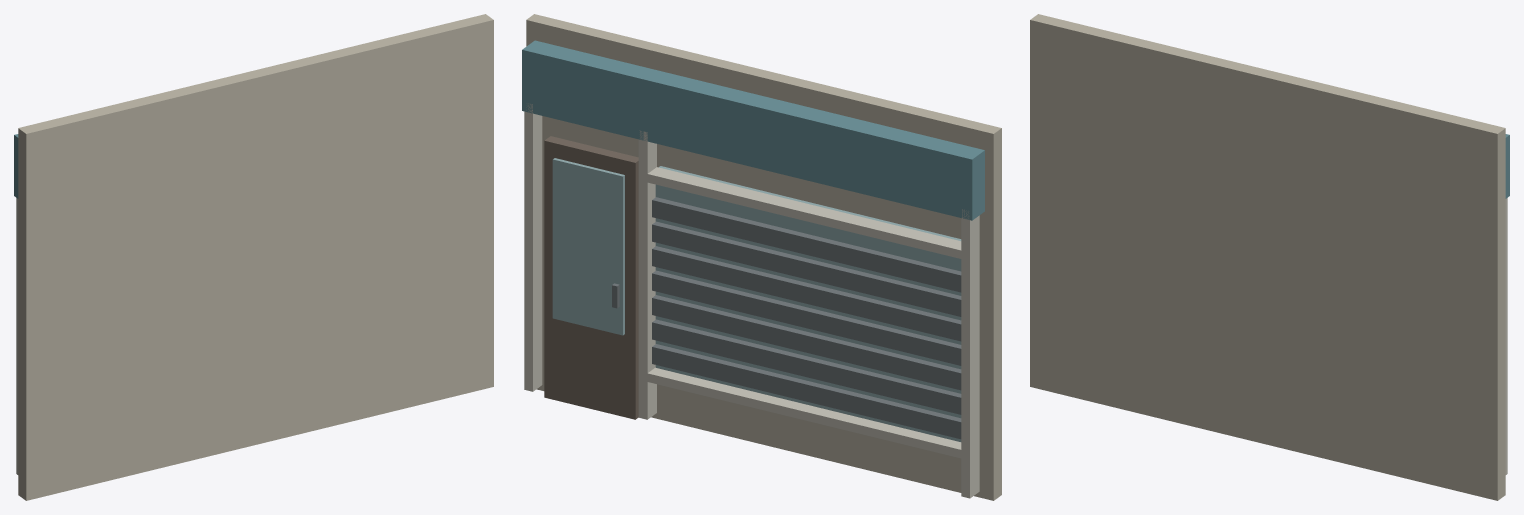
File: facade_workshop.glb
3 views of the same model, side by side, from view 1: azimuth 30°, elevation 25°; view 2: azimuth 150°, elevation 25°; view 3: azimuth 330°, elevation 25° (orthographic).
Parts seen in each view (by area): view 1: body; view 2: body; view 3: body.
Boxes of the visible parts, left/top/right/bottom form: body: left=14, top=14, right=493, bottom=500; body: left=522, top=14, right=1001, bottom=500; body: left=1030, top=14, right=1509, bottom=500.
Size of the model in its own units: 4 by 3 by 0.31.
